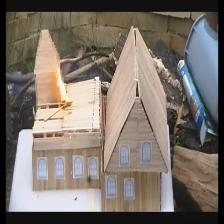fire: (52, 72, 72, 105)
